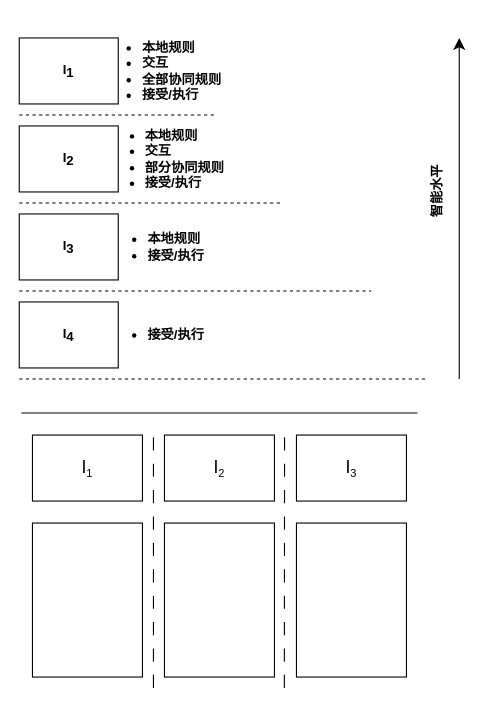
The diagram is 490 pixels wide and 708 high, and some of its shapes have lost their labels. Each missing label, with the centre of its shape:
"1.具有全局感官。 2.强大的星上运算能力。 3.可执行部分地面系统功能。" belongs at (x=350, y=599).
"1.具有局部决策能力。 2.可以自我感知新的任务。 3.可以与其他卫星进行信息交互。" belongs at (x=218, y=599).
"1.几乎没有如何智能能力。 2.智能接受命令进行执行。 3.卫星仅为“执行器”。" belongs at (x=86, y=599).
